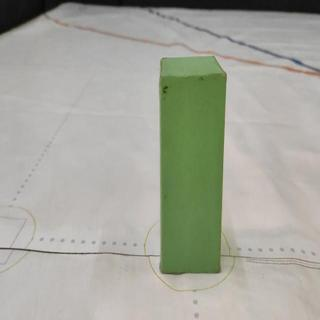greenbox: (159, 56, 225, 275)
